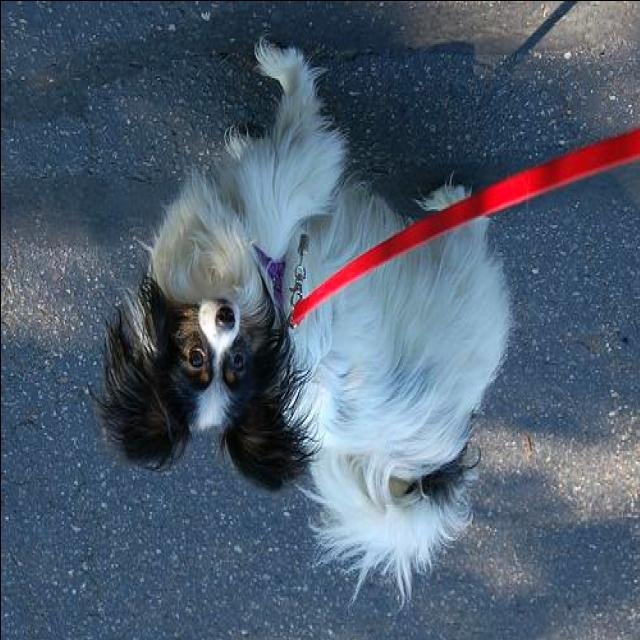papillon: (101, 38, 512, 604)
